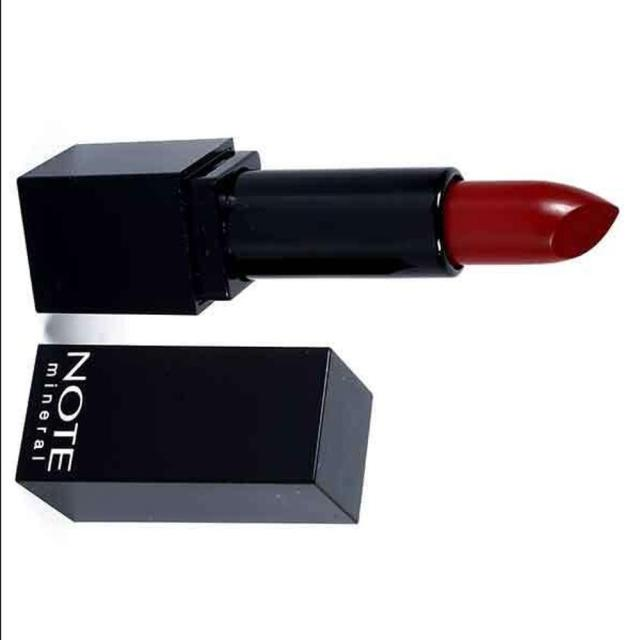lipstick: (0, 122, 625, 326)
